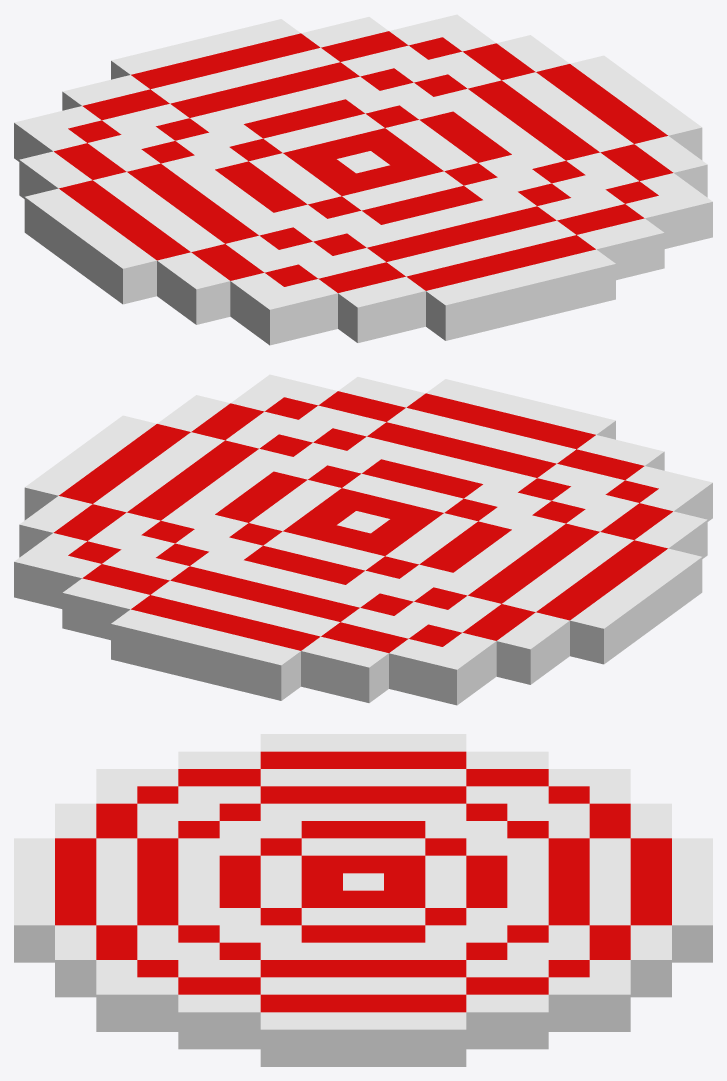
File: tARGET.obj
3 views of the same model, one above another, from view 1: azimuth 30°, elevation 25°; view 2: azimuth 150°, elevation 25°; view 3: azimuth 270°, elevation 25° (orthographic). The views are drawn at different scales.
Size of the model in its own units: 17 by 1 by 17.
Materials: 1 (1 with a texture image).
